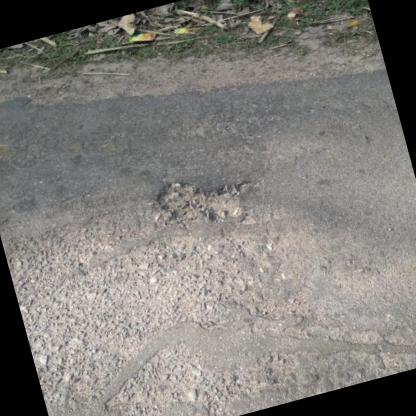pothole: (150, 160, 255, 238)
